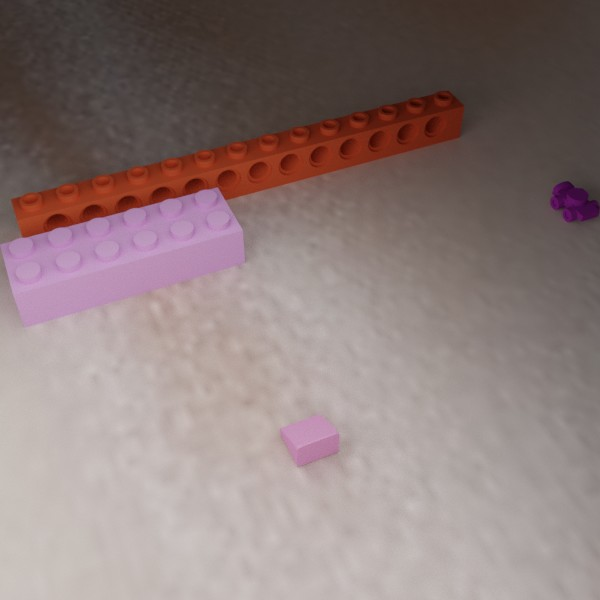lego: (10, 90, 464, 253), (0, 187, 245, 327), (279, 413, 339, 467), (550, 181, 600, 222)
